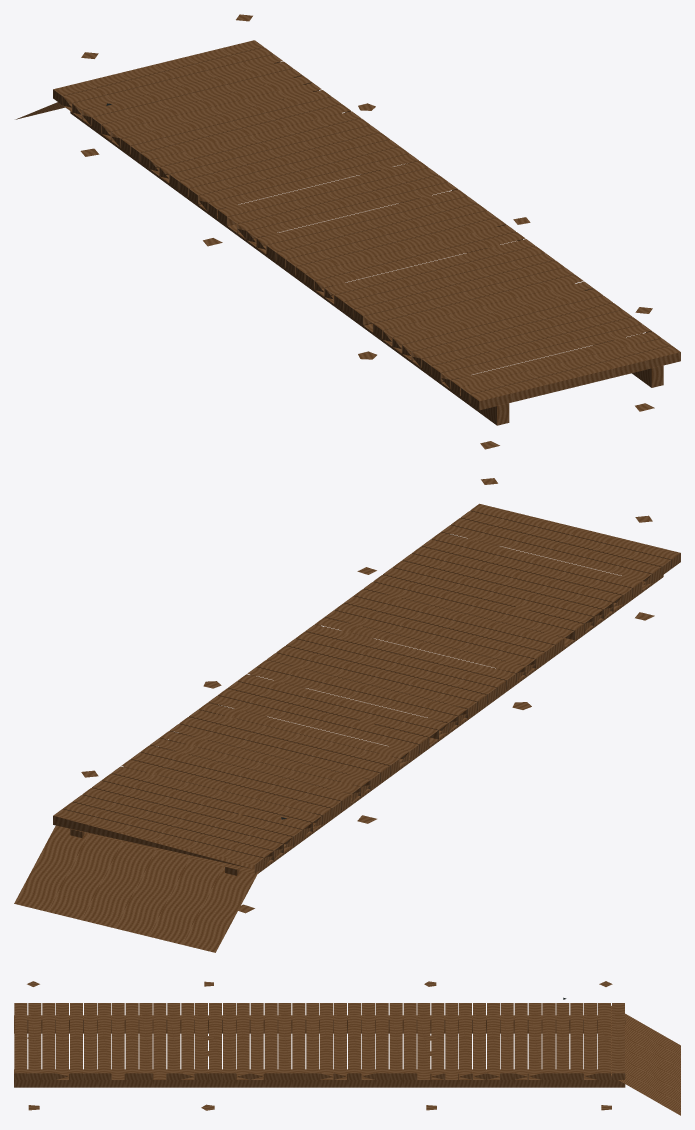
The picture shows the model from 3 angles, top to bottom: view 1: azimuth 30°, elevation 25°; view 2: azimuth 150°, elevation 25°; view 3: azimuth 270°, elevation 25°; orthographic projection. The views are drawn at different scales.
Visible parts, largest first — view 1: jetty; view 2: jetty; view 3: jetty.
Boxes of the visible parts, x1,y1,x2,y2 form: jetty: (15,14,680,449); jetty: (14,478,680,952); jetty: (14,981,680,1115).
Bounding box in the file's own units: 3 × 1.38 × 12.
Materials: 2 (2 with a texture image).
